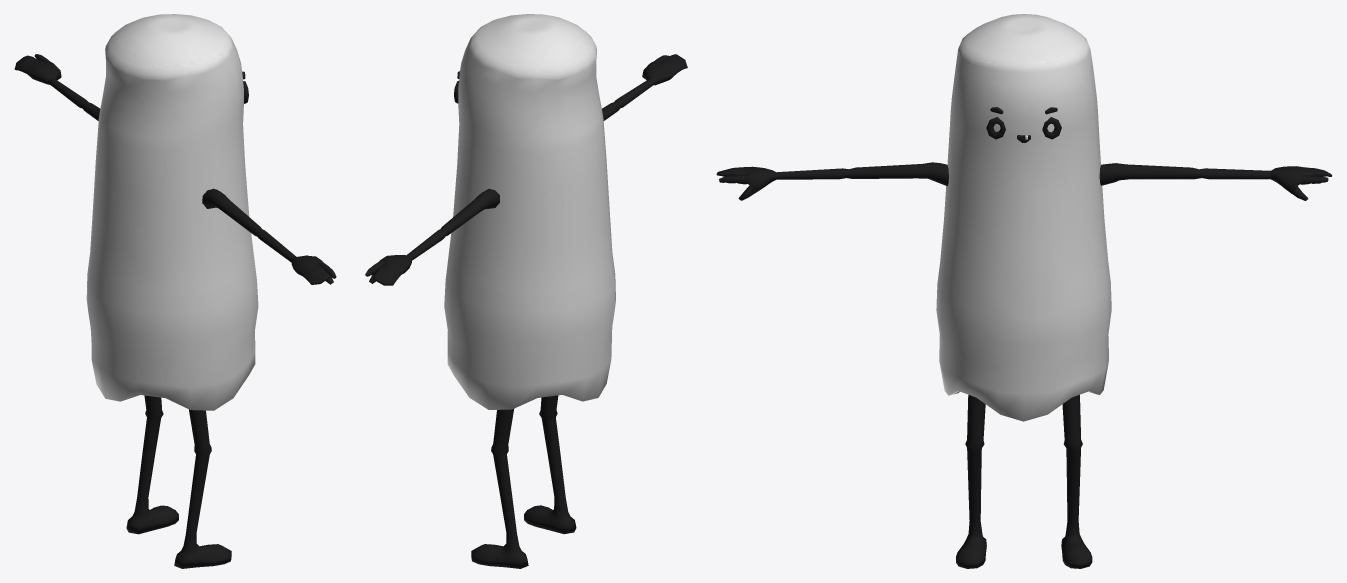
Rendered from CKLHPoYhE9.glb.
3 renders of one model, left to right at view 1: azimuth 30°, elevation 25°; view 2: azimuth 150°, elevation 25°; view 3: azimuth 270°, elevation 25°, orthographic.
Visible parts, largest first — view 1: mesh_char_137; view 2: mesh_char_137; view 3: mesh_char_137.
Boxes of the visible parts, x1=… form: mesh_char_137: x1=14, y1=14, x2=336, y2=568; mesh_char_137: x1=365, y1=14, x2=687, y2=568; mesh_char_137: x1=716, y1=14, x2=1332, y2=568.
Size of the model in its own units: 1.32 by 4.37 by 4.63.
Materials: 1 (1 with a texture image).
